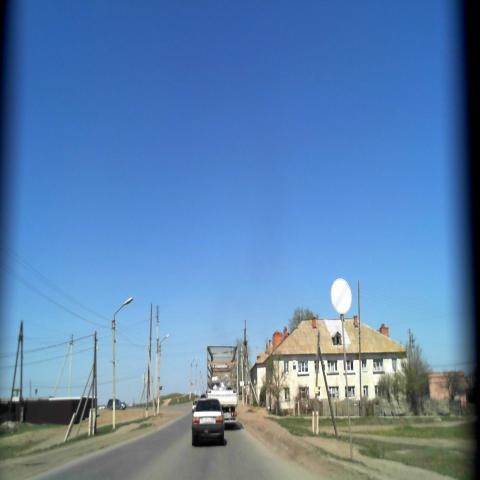3_31: (330, 276, 352, 317)
